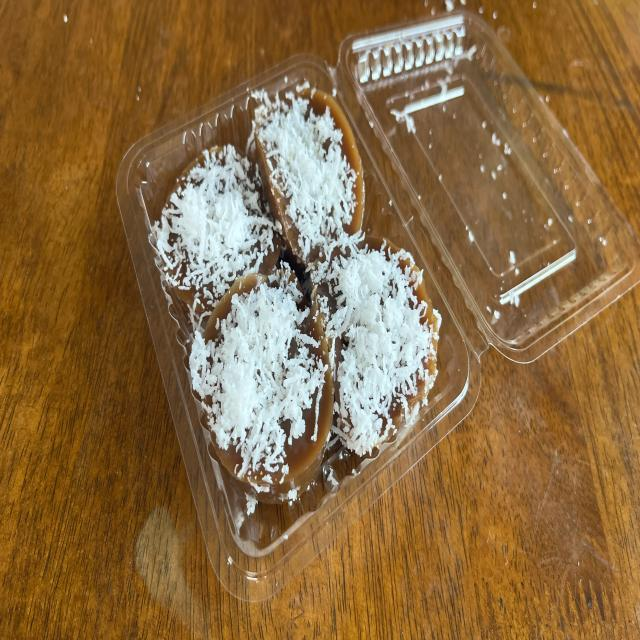Kuih lompang: (189, 264, 334, 502), (311, 236, 441, 456), (155, 144, 276, 313), (255, 89, 362, 269)
